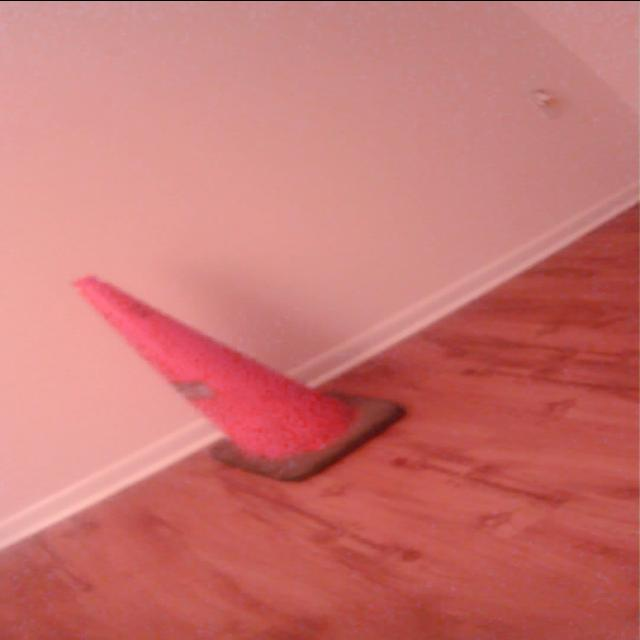traffic cone: (69, 273, 413, 486)
